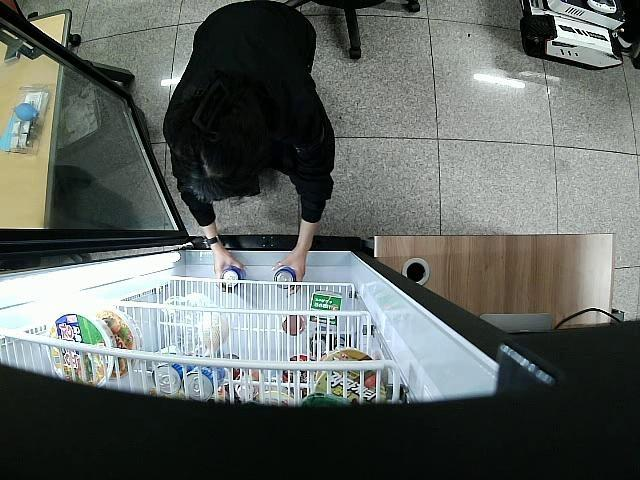13_pocariSweat: (219, 266, 242, 291), (274, 266, 296, 290)
